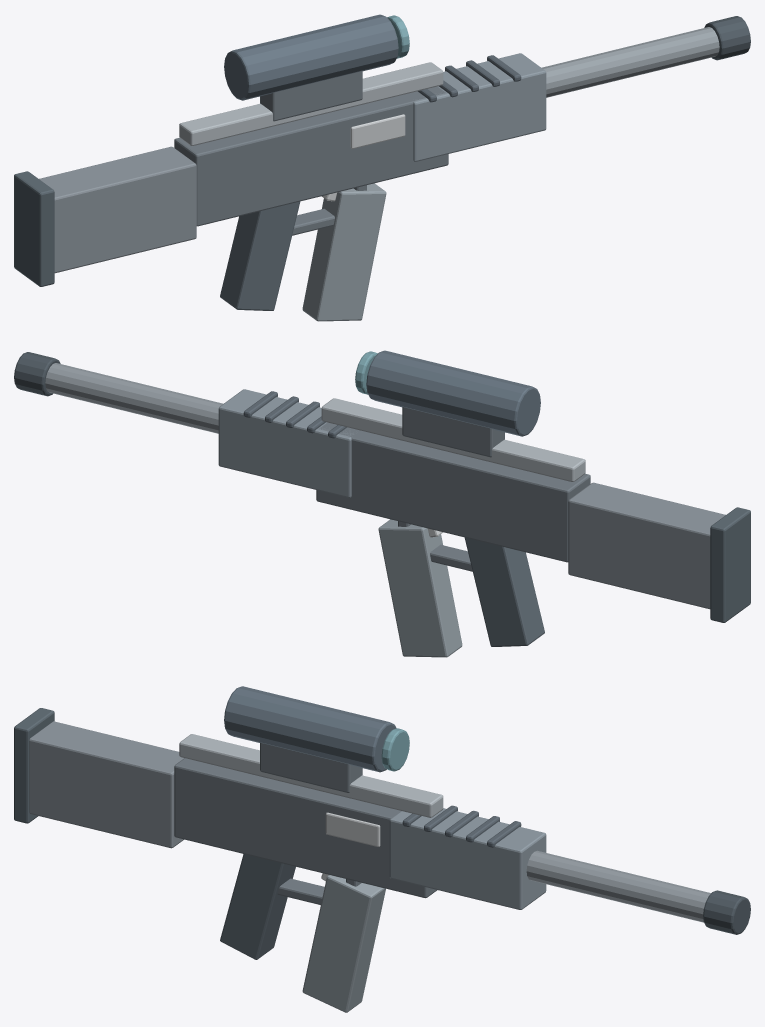
Rendered from sniper.glb.
3 renders of one model, top to bottom at view 1: azimuth 30°, elevation 25°; view 2: azimuth 150°, elevation 25°; view 3: azimuth 330°, elevation 25°, orthographic.
Visible parts, largest first — view 1: sniper_机匣, sniper_枪托, sniper_护木, sniper_瞄准镜, sniper_弹匣, sniper_握把, sniper_枪管, sniper_顶导轨, sniper_托底, sniper_镜座, sniper_枪口套, sniper_抛壳窗 (+1 smaller); view 2: sniper_机匣, sniper_枪托, sniper_护木, sniper_瞄准镜, sniper_弹匣, sniper_握把, sniper_枪管, sniper_顶导轨, sniper_托底, sniper_镜座, sniper_枪口套, sniper_扳机护圈下; view 3: sniper_机匣, sniper_枪托, sniper_护木, sniper_瞄准镜, sniper_弹匣, sniper_枪管, sniper_握把, sniper_顶导轨, sniper_镜座, sniper_托底, sniper_枪口套, sniper_抛壳窗 (+2 smaller).
Boxes of the visible parts, x1,y1,x2,y2 form: sniper_机匣: (174, 86, 448, 226); sniper_枪托: (39, 146, 196, 273); sniper_护木: (413, 53, 546, 161); sniper_瞄准镜: (224, 14, 398, 100); sniper_弹匣: (302, 183, 386, 321); sniper_握把: (220, 201, 300, 310); sniper_枪管: (541, 27, 719, 97); sniper_顶导轨: (179, 62, 443, 145); sniper_托底: (14, 171, 54, 286); sniper_镜座: (260, 71, 362, 121); sniper_枪口套: (704, 16, 750, 60); sniper_抛壳窗: (350, 114, 405, 148); sniper_机匣: (316, 422, 590, 562); sniper_枪托: (568, 482, 725, 609); sniper_护木: (218, 389, 353, 497); sniper_瞄准镜: (366, 350, 540, 436); sniper_弹匣: (378, 519, 462, 657); sniper_握把: (464, 537, 544, 646); sniper_枪管: (45, 363, 223, 433); sniper_顶导轨: (321, 398, 585, 481); sniper_托底: (710, 507, 750, 622); sniper_镜座: (402, 407, 504, 457); sniper_枪口套: (14, 352, 60, 396); sniper_扳机护圈下: (430, 544, 472, 571); sniper_机匣: (174, 758, 437, 898); sniper_枪托: (29, 721, 183, 848); sniper_护木: (389, 808, 546, 909); sniper_瞄准镜: (224, 686, 396, 772); sniper_弹匣: (302, 875, 385, 1012); sniper_枪管: (526, 850, 711, 922); sniper_握把: (220, 854, 295, 959); sniper_顶导轨: (179, 734, 443, 817); sniper_镜座: (260, 742, 362, 792); sniper_托底: (14, 708, 54, 823); sniper_枪口套: (703, 890, 750, 934); sniper_抛壳窗: (325, 812, 380, 846).
Bounding box in the file's own units: 1.19 × 0.4622 × 0.082.
